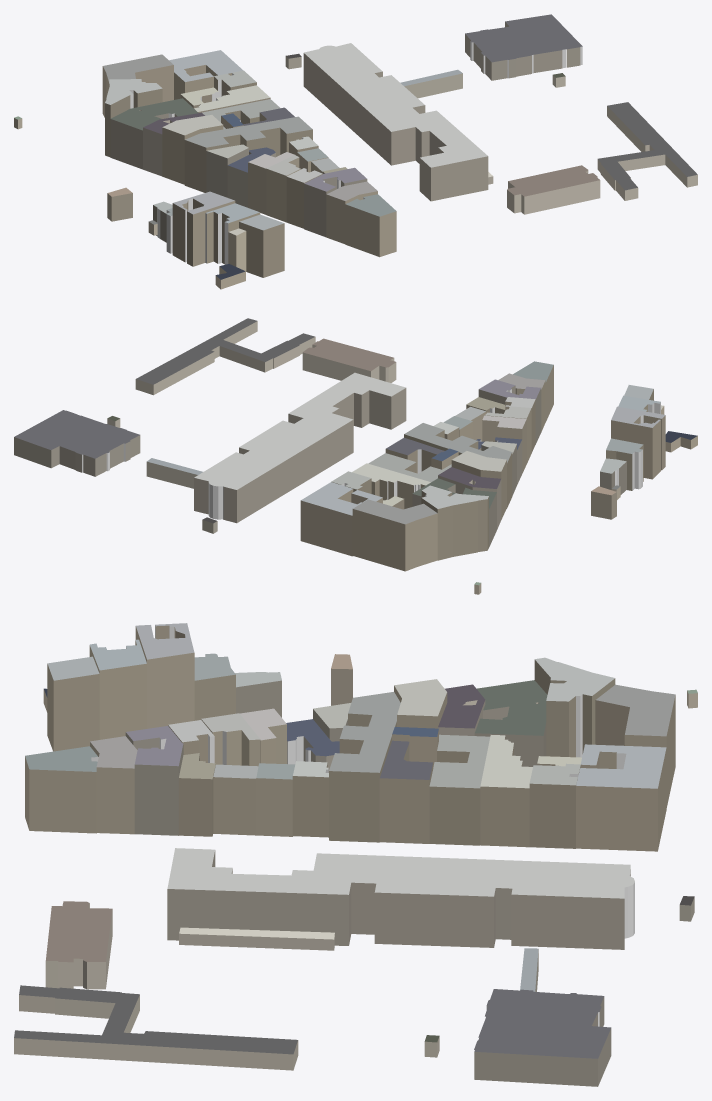
3 renders of one model, top to bottom at view 1: azimuth 30°, elevation 25°; view 2: azimuth 150°, elevation 25°; view 3: azimuth 270°, elevation 25°, orthographic. The views are drawn at different scales.
Parts seen in each view (by area): view 1: tuile; view 2: tuile; view 3: tuile.
Part boxes in pixels (bbox=[...]): tuile: bbox=[14, 14, 697, 289]; tuile: bbox=[14, 318, 697, 594]; tuile: bbox=[14, 623, 697, 1086].
Bounding box in the file's own units: 276 × 32.5 × 205.
